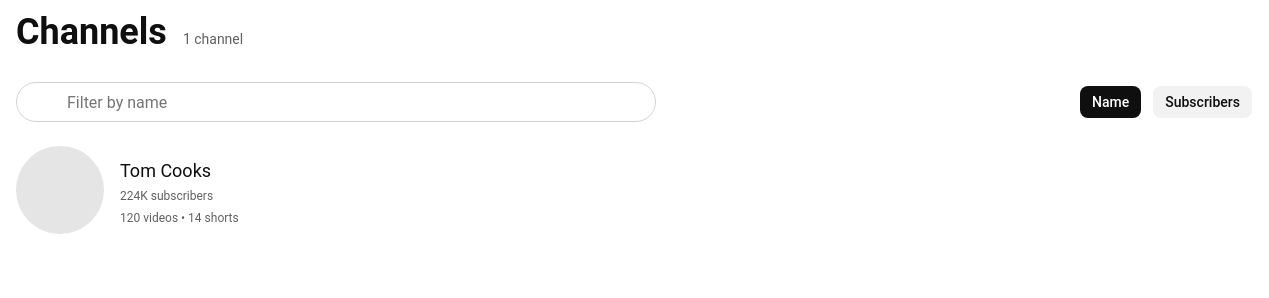
Test: ChannelsPage › filters as you type: the URL is updated and the API asked again
Expected: the link "Tom Cooks" is shown, [120,160,211,181]
Step 1. Type "élé" into the search field named "Filter channels" → coordinates (352, 102), box [65,90,639,115]
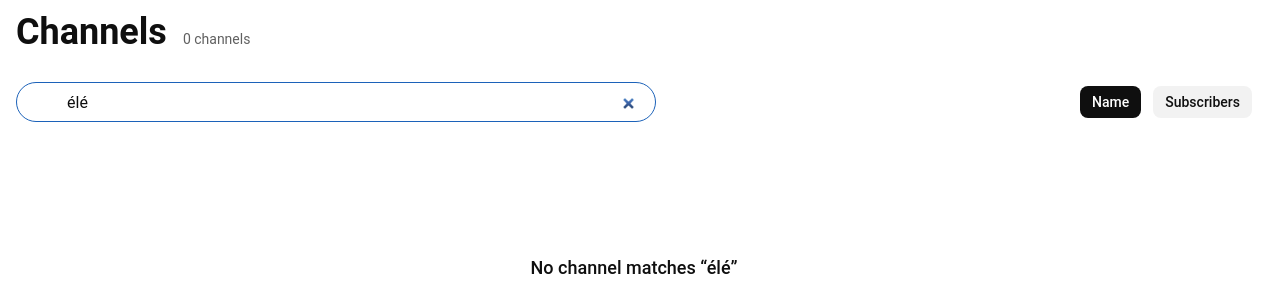
Result: the text "No channel matches “élé”" is shown at [530,256,738,282]
